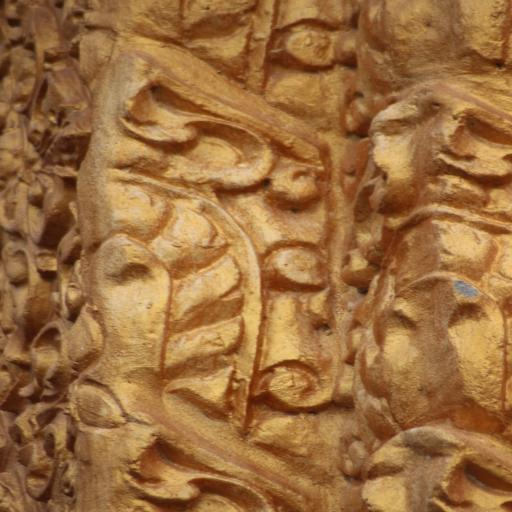la: (27, 62, 296, 456), (342, 82, 512, 468)
